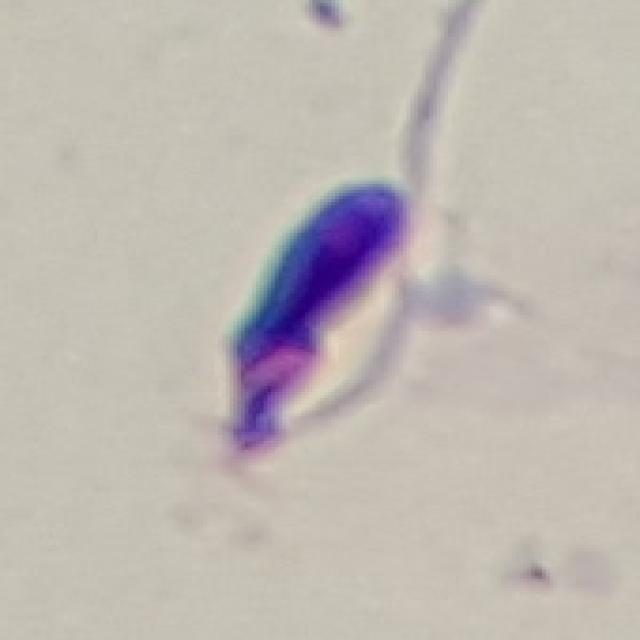abnormal sperm: (225, 48, 452, 455)
